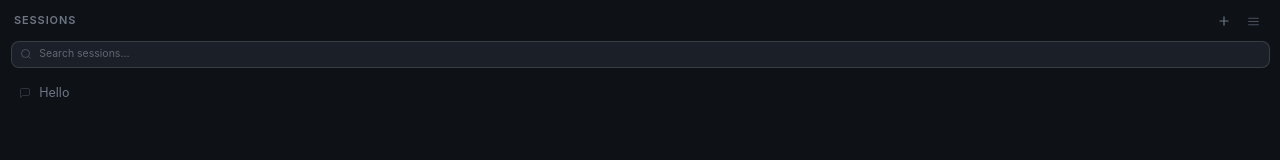
SessionSidebar › shows 'No matching sessions' when search has no results
In the field with placeholder "Search sessions…": (650, 54) [39,47,1260,61], type "xyz_not_found"
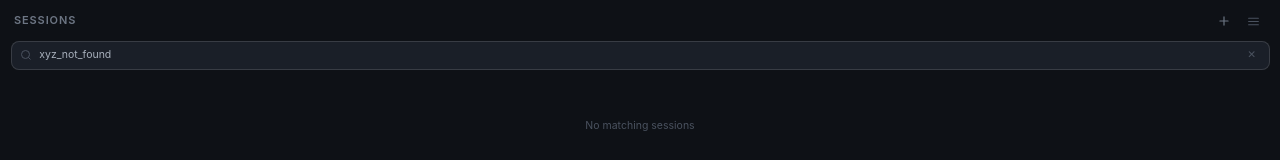
Check: the text "No matching sessions" is shown, box [585,118,695,132]
